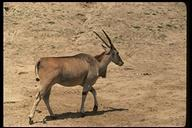antelope: (28, 28, 125, 125)
